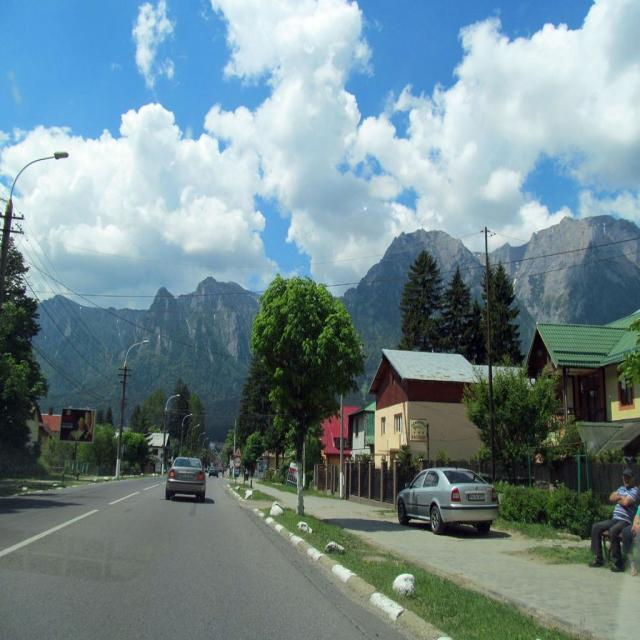car: (397, 470, 499, 538), (166, 454, 203, 499)
